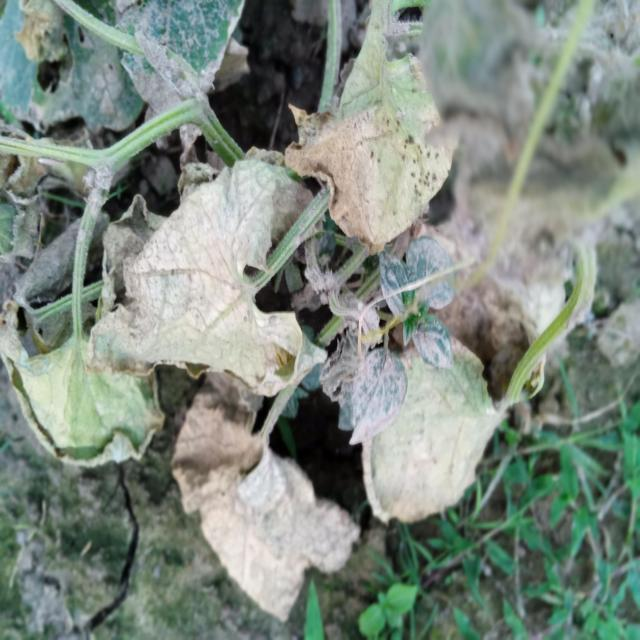cucumber_bacterial: (119, 155, 317, 409), (303, 36, 477, 259), (191, 430, 361, 624), (5, 320, 163, 514), (375, 344, 500, 530)
